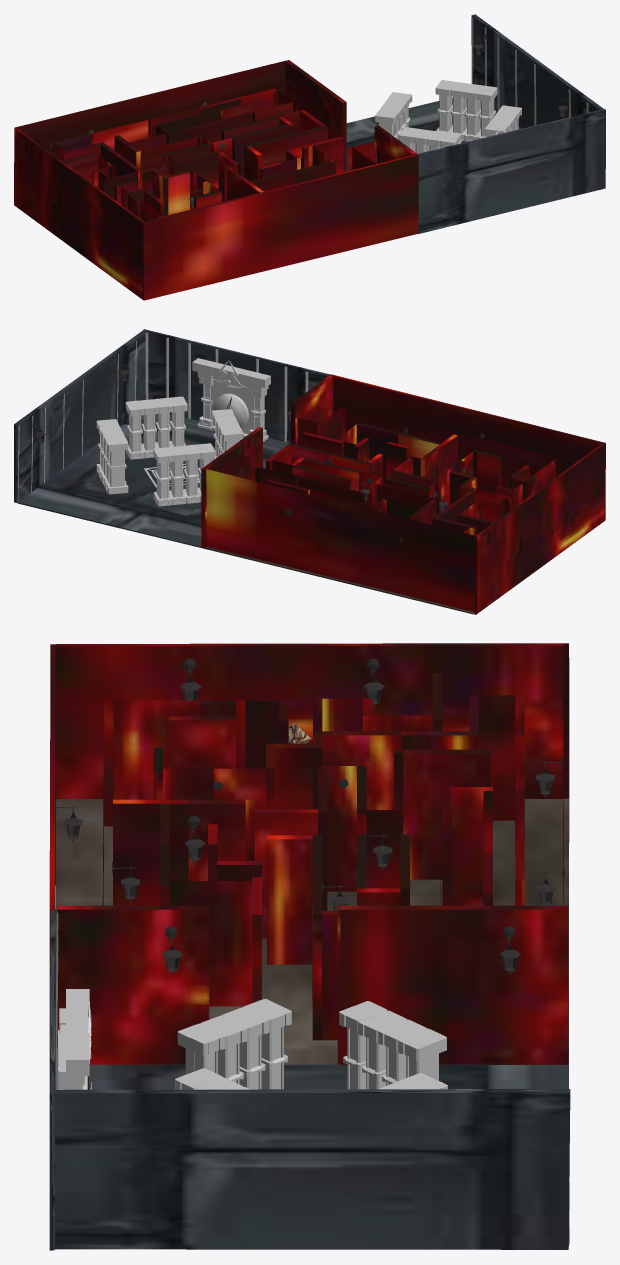
The model's file is shrine de fogo.fbx.
3 views of the same model, one above another, from view 1: azimuth 30°, elevation 25°; view 2: azimuth 150°, elevation 25°; view 3: azimuth 270°, elevation 25° (orthographic). The views are drawn at different scales.
Visible parts, largest first — view 1: Cube; view 2: Cube, Cube.070; view 3: Cube.
Boxes of the visible parts, x1,y1,x2,y2 form: Cube: [14, 14, 605, 300]; Cube: [14, 329, 605, 614]; Cube.070: [295, 417, 320, 445]; Cube: [49, 643, 570, 1250].
Bounding box in the file's own units: 3740 × 615 × 1824.
